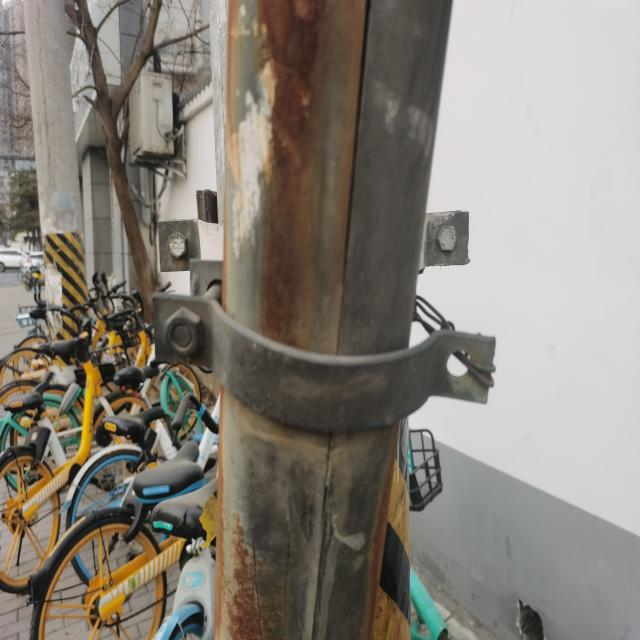bolt head: (436, 223, 460, 255), (166, 230, 189, 262)
bolt nut: (160, 306, 207, 363)
